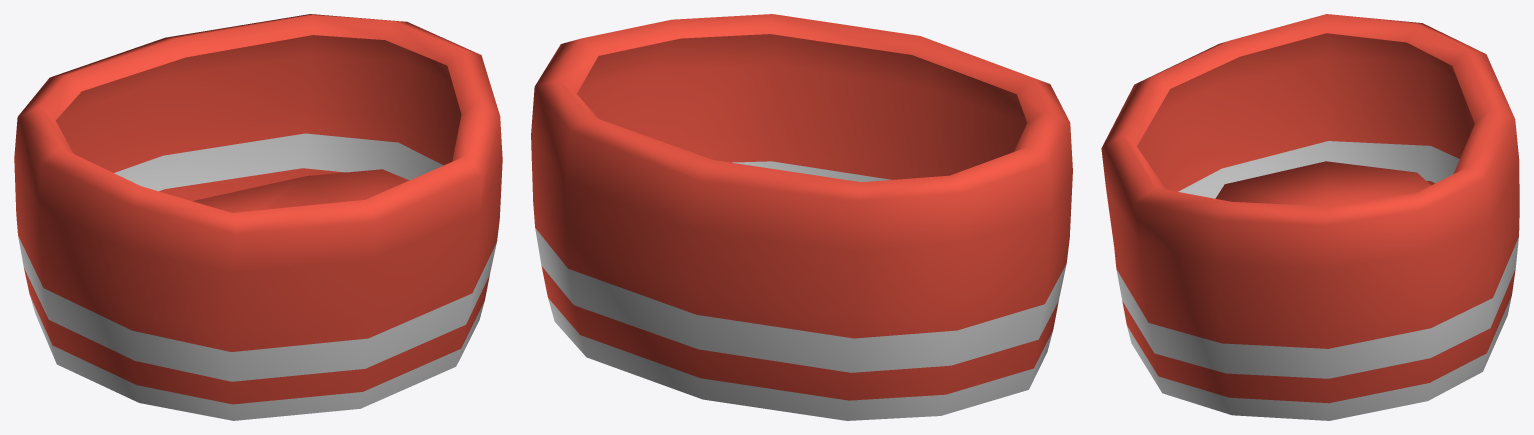
Rendered from Bottom_05_Fat.fbx.
The picture shows the model from 3 angles, left to right: view 1: azimuth 30°, elevation 25°; view 2: azimuth 150°, elevation 25°; view 3: azimuth 270°, elevation 25°; orthographic projection. The views are drawn at different scales.
Visible parts, largest first — view 1: Bottom_05_Fat; view 2: Bottom_05_Fat; view 3: Bottom_05_Fat.
Boxes of the visible parts, left/top/right/bottom form: Bottom_05_Fat: left=14, top=14, right=502, bottom=420; Bottom_05_Fat: left=531, top=14, right=1072, bottom=420; Bottom_05_Fat: left=1101, top=14, right=1519, bottom=420.
Bounding box in the file's own units: 54.45 × 28 × 45.23.
